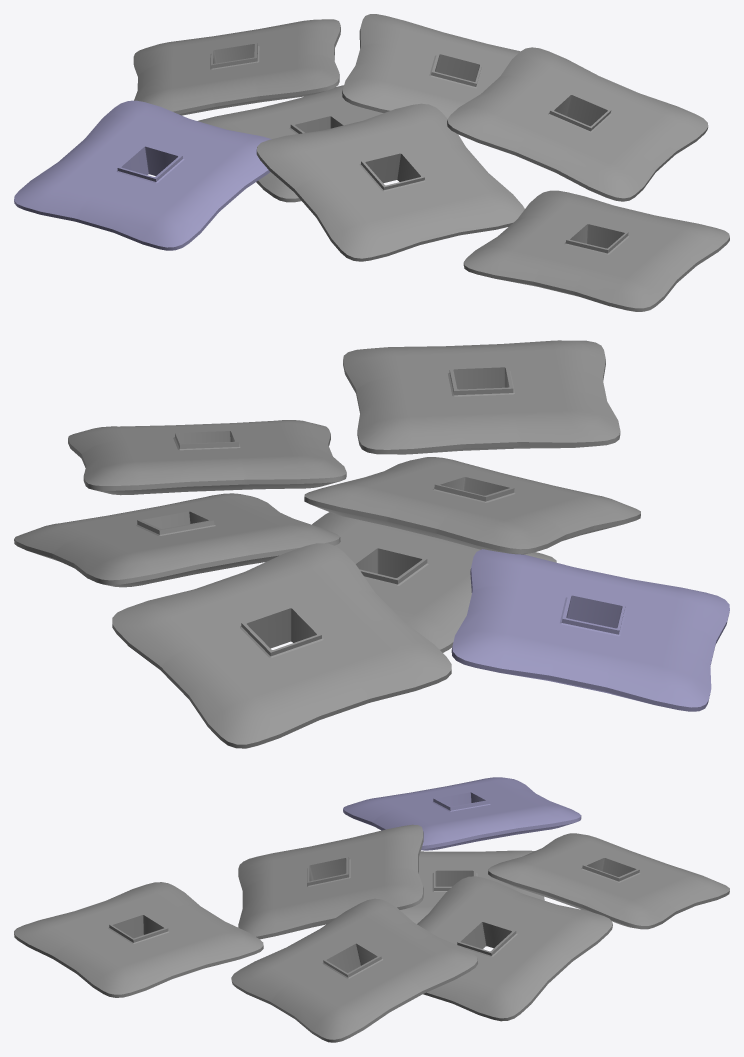
The model's file is coin stack.FBX.
3 renders of one model, top to bottom at view 1: azimuth 30°, elevation 25°; view 2: azimuth 150°, elevation 25°; view 3: azimuth 270°, elevation 25°, orthographic. The views are drawn at different scales.
Visible parts, largest first — view 1: Box002, Box007, Box004, Box005, Box006, Box003, Box001; view 2: Box006, Box007, Box005, Box002, Box003, Box004, Box001; view 3: Box004, Box005, Box003, Box002, Box006, Box007, Box001.
Boxes of the visible parts, left/top/right/bottom form: Box002: left=256, top=103, right=524, bottom=261; Box007: left=14, top=100, right=271, bottom=250; Box004: left=447, top=47, right=708, bottom=201; Box005: left=463, top=190, right=729, bottom=311; Box006: left=133, top=19, right=340, bottom=115; Box003: left=342, top=14, right=520, bottom=118; Box001: left=197, top=85, right=383, bottom=202; Box006: left=112, top=543, right=451, bottom=748; Box007: left=451, top=549, right=729, bottom=711; Box005: left=343, top=340, right=620, bottom=454; Box002: left=304, top=457, right=640, bottom=554; Box003: left=14, top=493, right=340, bottom=587; Box004: left=68, top=420, right=346, bottom=495; Box001: left=312, top=512, right=556, bottom=652; Box004: left=231, top=898, right=477, bottom=1042; Box005: left=14, top=882, right=263, bottom=997; Box003: left=417, top=876, right=612, bottom=1021; Box002: left=238, top=824, right=423, bottom=939; Box006: left=488, top=833, right=729, bottom=929; Box007: left=343, top=777, right=581, bottom=850; Box001: left=400, top=850, right=544, bottom=923.
Size of the model in its own units: 65.94 by 6.4 by 75.57.
